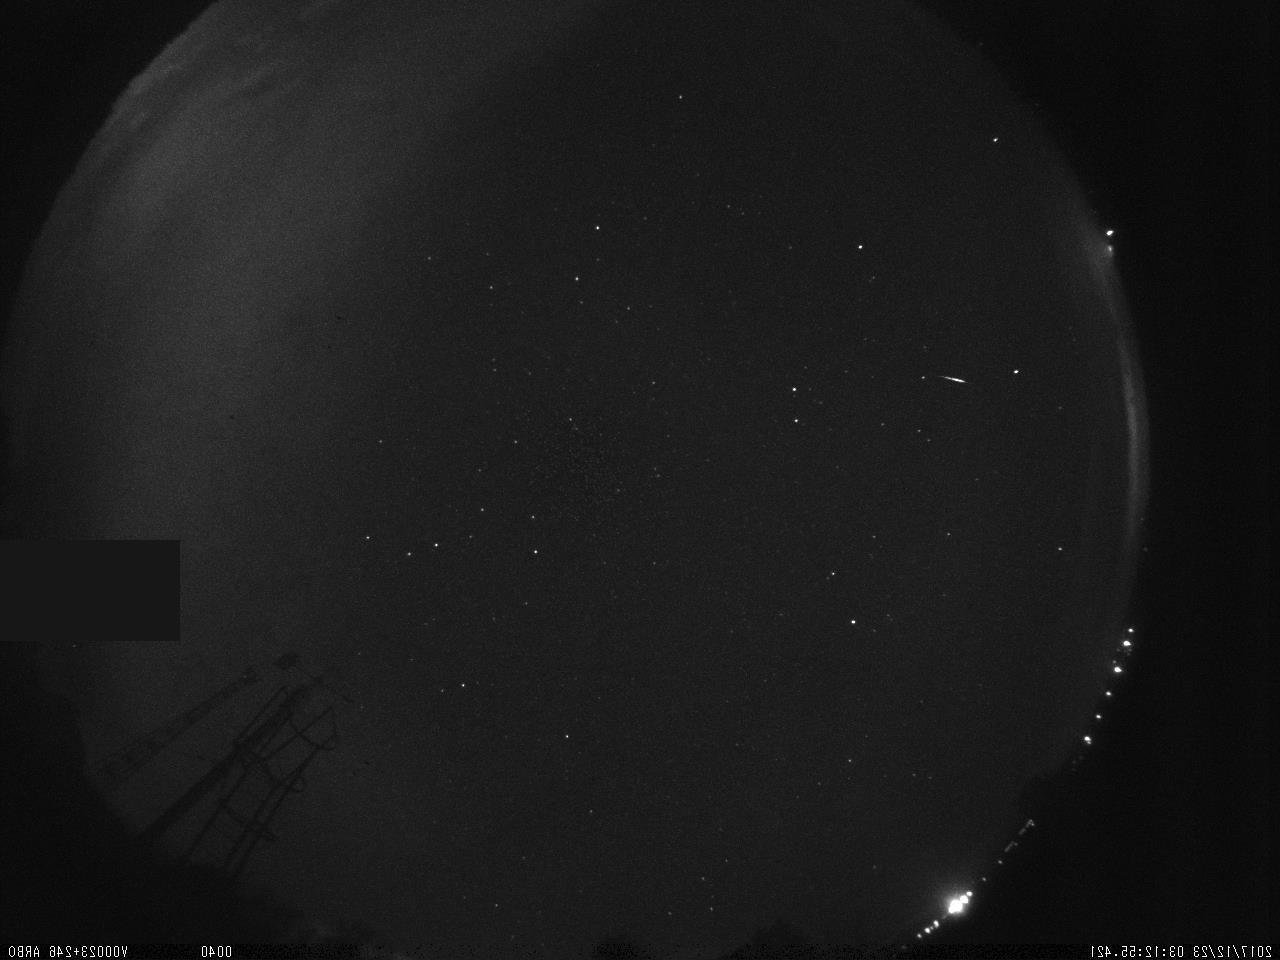meteor: (926, 364, 975, 396)
